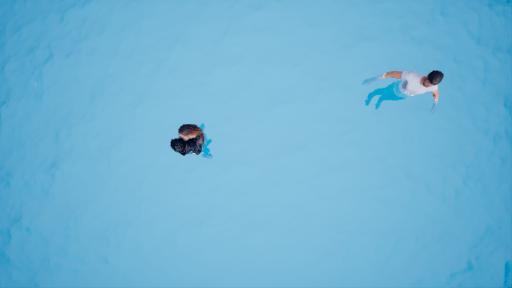person: (360, 64, 444, 118), (166, 119, 217, 163)
